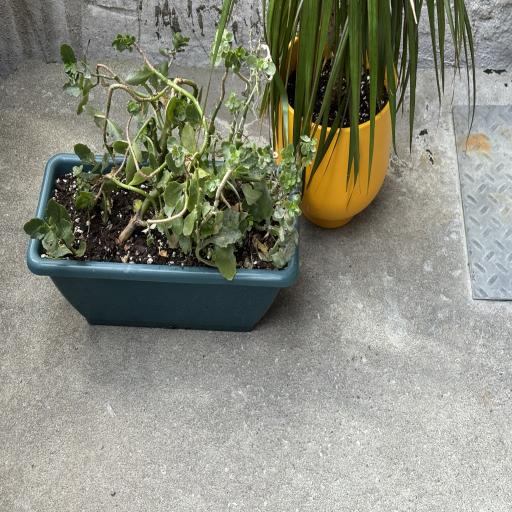Plant Pot: (28, 151, 302, 327), (272, 33, 395, 227)
